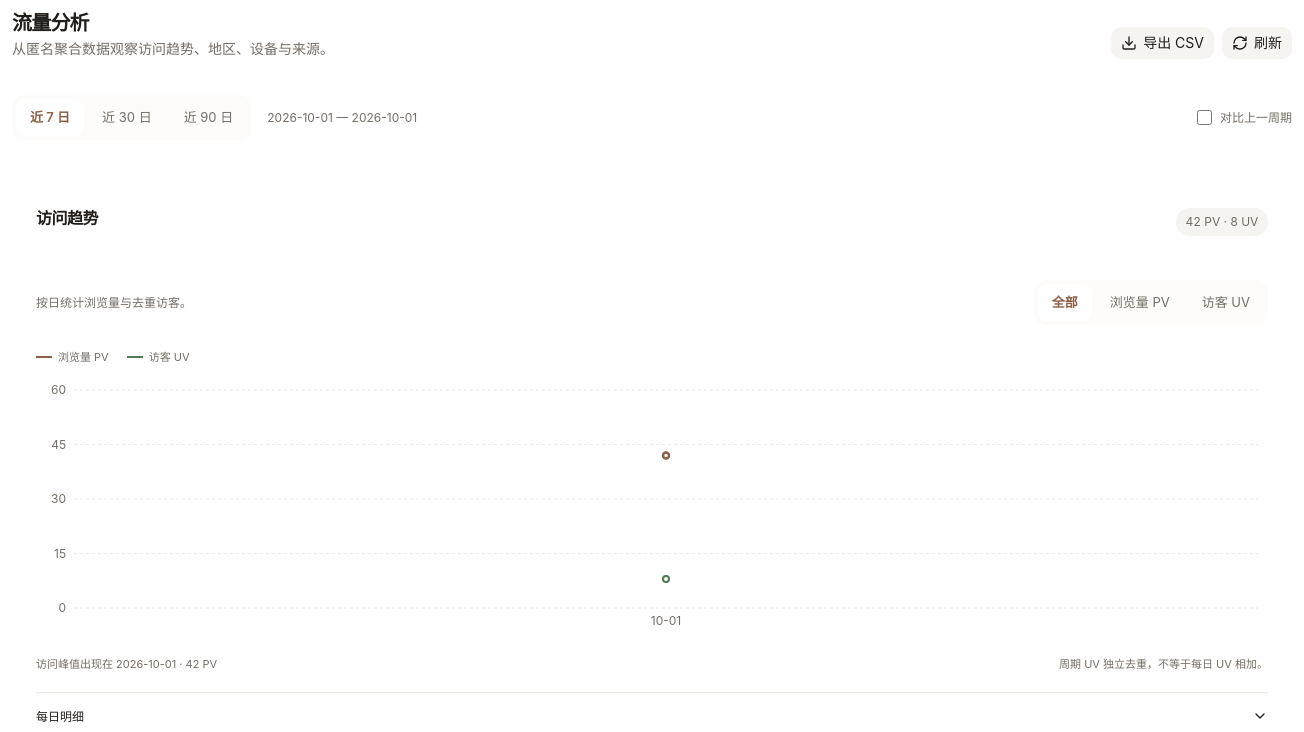
it: 站点运营保留流量分析 › 快速切换范围时迟到的旧响应不能覆盖新范围
The image size is (1304, 732).
Expected: the text "42 PV · 8 UV" is shown, x1=1176 y1=208 x2=1268 y2=236
Click the button "近 30 日": (127, 117) x1=88 y1=99 x2=166 y2=136
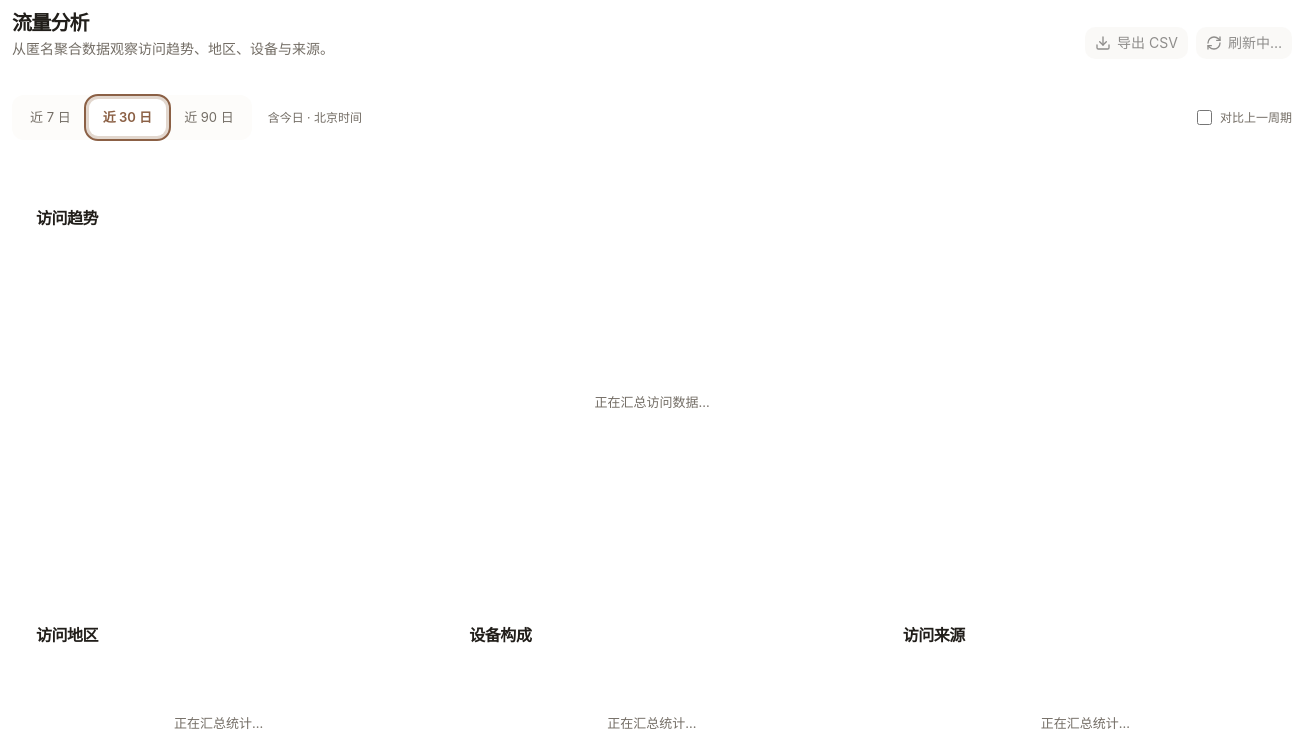
Click the button "近 90 日": (209, 117) x1=170 y1=99 x2=248 y2=136
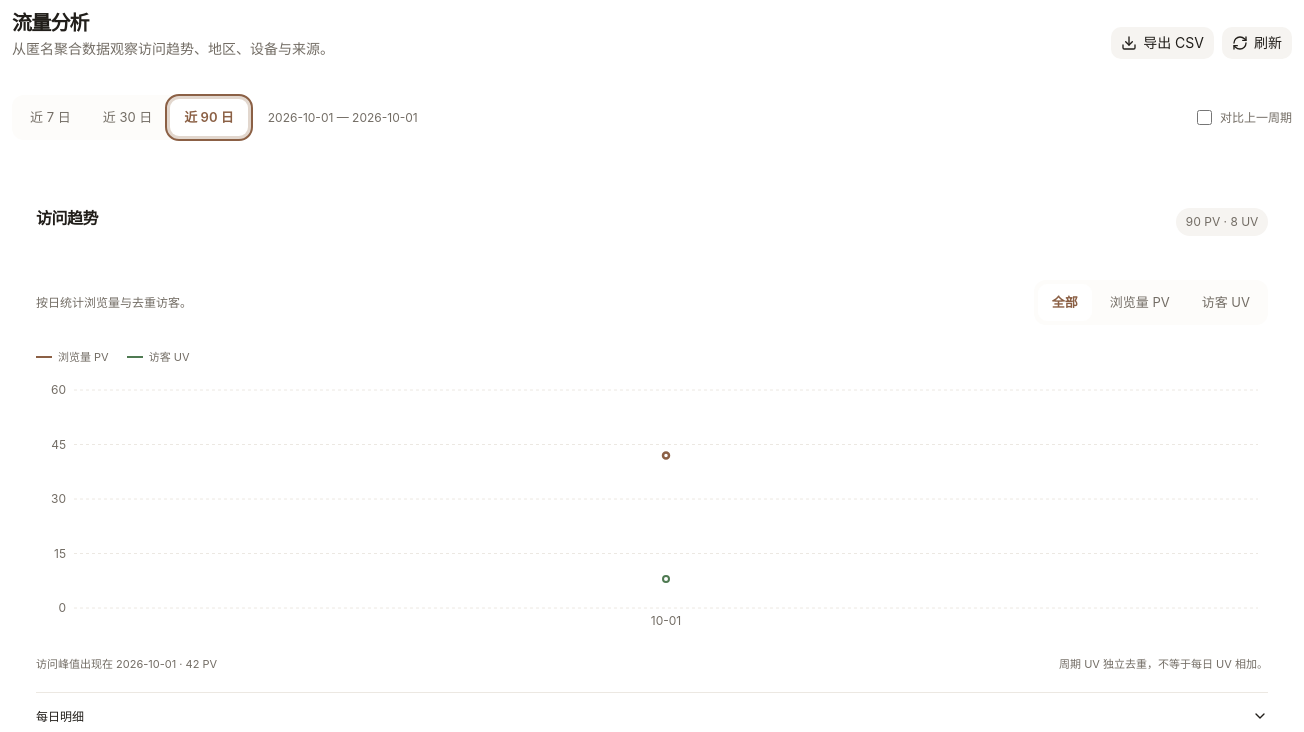
Expected: the text "42 PV · 8 UV" is not shown
Now the text "90 PV · 8 UV" is shown, box x1=1176 y1=208 x2=1268 y2=236
